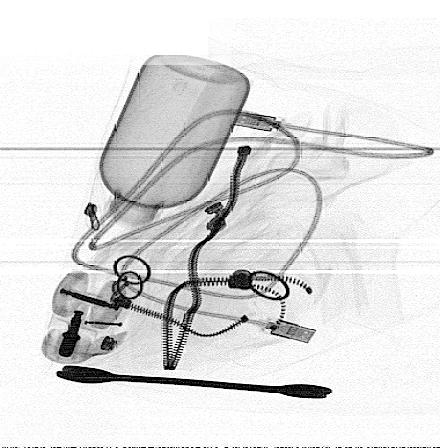Wrench: (56, 364, 337, 400)
